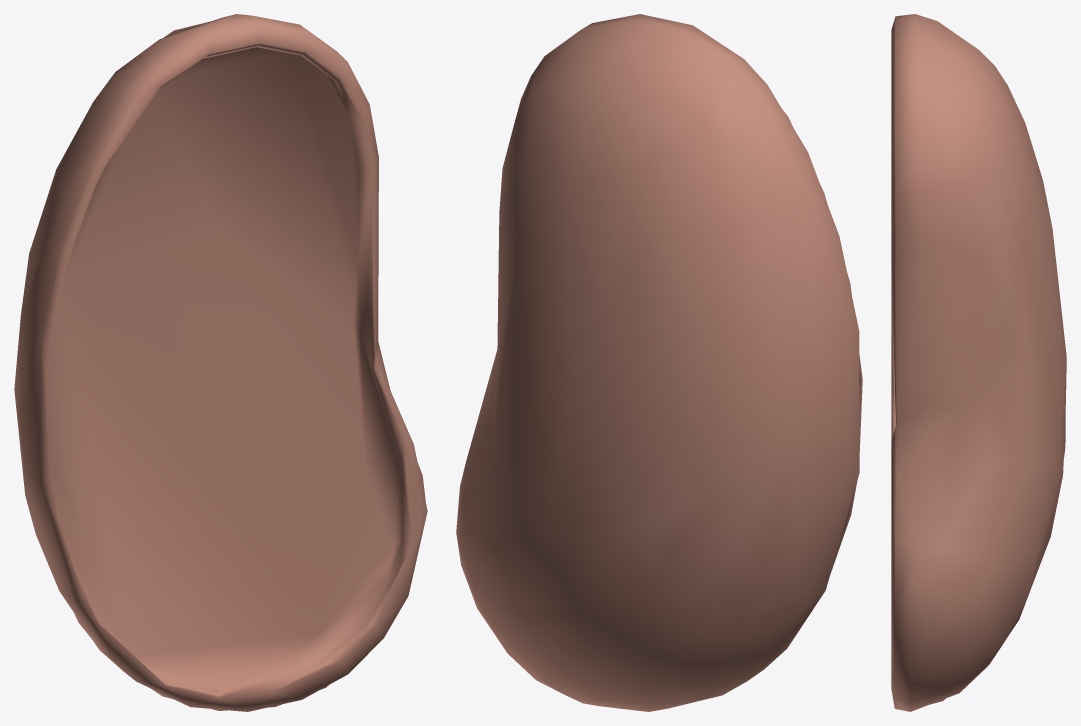
The picture shows the model from 3 angles, left to right: view 1: azimuth 30°, elevation 25°; view 2: azimuth 150°, elevation 25°; view 3: azimuth 270°, elevation 25°; orthographic projection. The views are drawn at different scales.
Visible parts, largest first — view 1: LOD 2_14591652872871216962_a1e5460f9667e624384844bb77a670e0; view 2: LOD 2_14591652872871216962_a1e5460f9667e624384844bb77a670e0; view 3: LOD 2_14591652872871216962_a1e5460f9667e624384844bb77a670e0.
Boxes of the visible parts, box(x1,y1,x2,y2) form: LOD 2_14591652872871216962_a1e5460f9667e624384844bb77a670e0: box(14, 14, 427, 711); LOD 2_14591652872871216962_a1e5460f9667e624384844bb77a670e0: box(456, 14, 862, 711); LOD 2_14591652872871216962_a1e5460f9667e624384844bb77a670e0: box(891, 14, 1066, 711).
Bounding box in the file's own units: 4.33 × 7.33 × 1.81.
